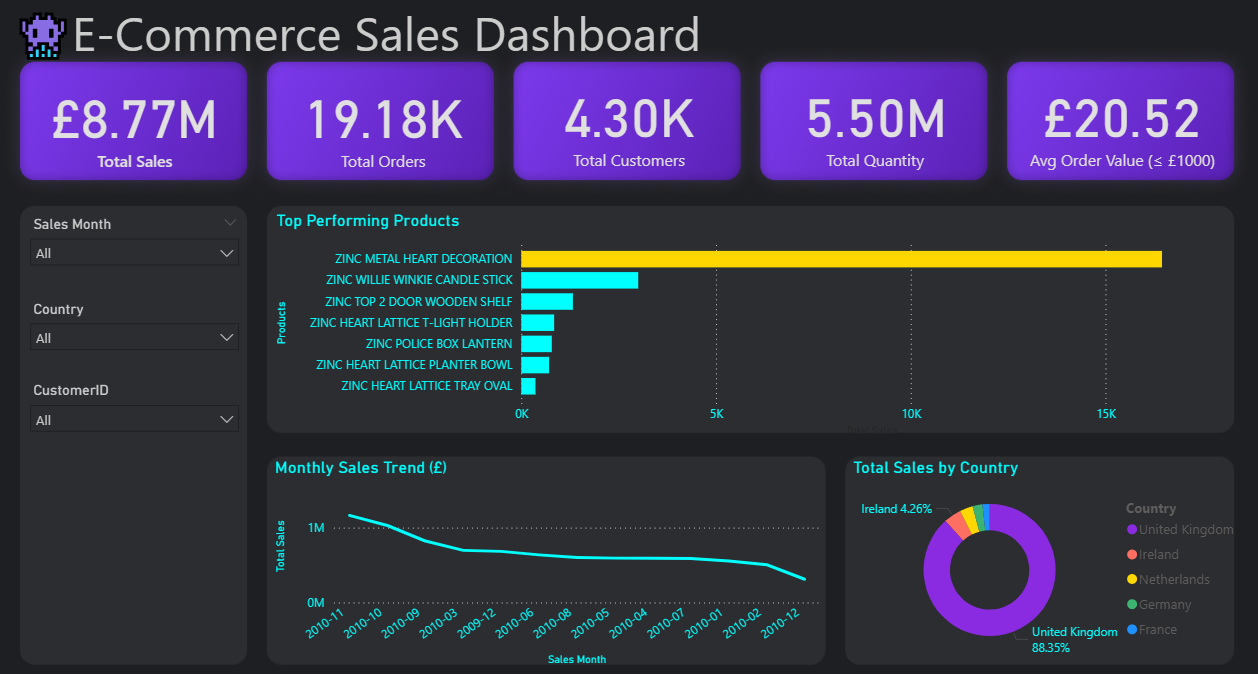

The dashboard page shown, as its layout file describes it:
{"tool":"powerbi","page":{"name":"Page 1","canvas":[1280,720],"ordinal":0},"visuals":[{"type":"card","fields":{"Values":["Cleaned_Online_Retail_2009_2010.Total Sales"]},"box":[22.9,69.3,231.4,119.3],"z":0},{"type":"card","fields":{"Values":["Cleaned_Online_Retail_2009_2010.Total Orders"]},"box":[276.4,69.3,226.4,119.3],"z":1000},{"type":"card","fields":{"Values":["Cleaned_Online_Retail_2009_2010.Total Customers"]},"box":[522.3,69.2,233.1,119.2],"z":2000},{"type":"card","fields":{"Values":["Cleaned_Online_Retail_2009_2010.Total Quantity"]},"box":[773.1,69.2,231.5,119.2],"z":3000},{"type":"card","fields":{"Values":["Cleaned_Online_Retail_2009_2010.AOV_Capped"]},"box":[1024.3,68.6,230,120],"z":4000},{"type":"lineChart","title":"Monthly Sales Trend (£)","fields":{"Category":["Cleaned_Online_Retail_2009_2010.YearMonth"],"Y":["Cleaned_Online_Retail_2009_2010.Total Sales"]},"box":[276,469,562,215],"z":5000},{"type":"clusteredBarChart","title":"Top Performing Products","fields":{"Y":["Cleaned_Online_Retail_2009_2010.Total Sales"],"Category":["Cleaned_Online_Retail_2009_2010.Description"]},"box":[276.7,218.3,978.3,233.3],"z":6000},{"type":"donutChart","fields":{"Category":["Cleaned_Online_Retail_2009_2010.Country"],"Y":["Cleaned_Online_Retail_2009_2010.Total Sales"]},"box":[861.1,468.9,405.6,208.9],"z":6001},{"type":"slicer","fields":{"Values":["Cleaned_Online_Retail_2009_2010.Sales Month"]},"box":[22.9,218.6,231.4,77.1],"z":6002},{"type":"slicer","fields":{"Values":["Cleaned_Online_Retail_2009_2010.Country"]},"box":[22.9,304.3,231.4,64.3],"z":6003},{"type":"slicer","fields":{"Values":["Cleaned_Online_Retail_2009_2010.CustomerID"]},"box":[22.9,387.1,231.4,64.3],"z":6004},{"type":"textbox","box":[11.4,0,905.7,95.7],"z":6005}]}

Visuals, with their boxes on the page's 1280x720 design canvas (x1, y1, x2, y2). These are canvas units, not pixel positions in the 1258x674 screenshot, which may show the page scaled, cropped or inside an application window:
card - Cleaned_Online_Retail_2009_2010.Total Sales: <region>23, 69, 254, 189</region>
card - Cleaned_Online_Retail_2009_2010.Total Orders: <region>276, 69, 503, 189</region>
card - Cleaned_Online_Retail_2009_2010.Total Customers: <region>522, 69, 755, 188</region>
card - Cleaned_Online_Retail_2009_2010.Total Quantity: <region>773, 69, 1005, 188</region>
card - Cleaned_Online_Retail_2009_2010.AOV_Capped: <region>1024, 69, 1254, 189</region>
"Monthly Sales Trend (£)" lineChart: <region>276, 469, 838, 684</region>
"Top Performing Products" clusteredBarChart: <region>277, 218, 1255, 452</region>
donutChart - Cleaned_Online_Retail_2009_2010.Country x Cleaned_Online_Retail_2009_2010.Total Sales: <region>861, 469, 1267, 678</region>
slicer - Cleaned_Online_Retail_2009_2010.Sales Month: <region>23, 219, 254, 296</region>
slicer - Cleaned_Online_Retail_2009_2010.Country: <region>23, 304, 254, 369</region>
slicer - Cleaned_Online_Retail_2009_2010.CustomerID: <region>23, 387, 254, 451</region>
textbox: <region>11, 0, 917, 96</region>
